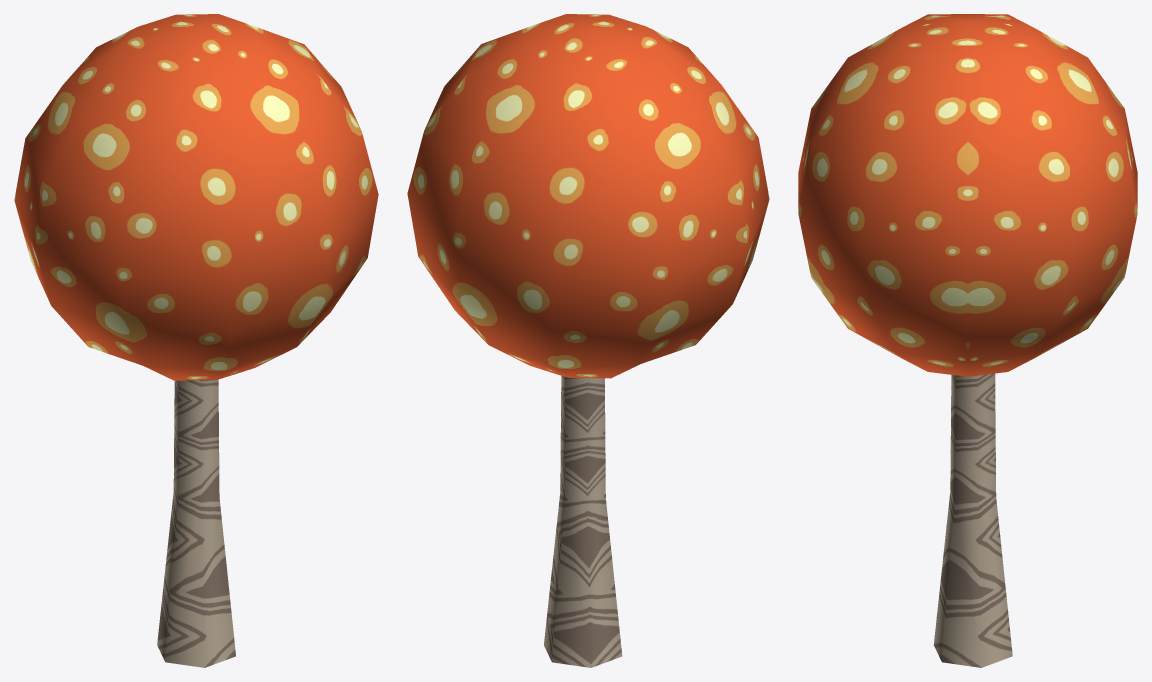
Rendered from S_Tree_D.fbx.
3 views of the same model, side by side, from view 1: azimuth 30°, elevation 25°; view 2: azimuth 150°, elevation 25°; view 3: azimuth 270°, elevation 25° (orthographic).
Visible parts, largest first — view 1: S_Tree_D_m; view 2: S_Tree_D_m; view 3: S_Tree_D_m.
Part boxes in pixels (x1,y1,x2,y2): S_Tree_D_m: (14,14,378,667); S_Tree_D_m: (407,14,769,667); S_Tree_D_m: (798,14,1137,667).
Bounding box in the file's own units: 19.91 × 36.98 × 18.24.
